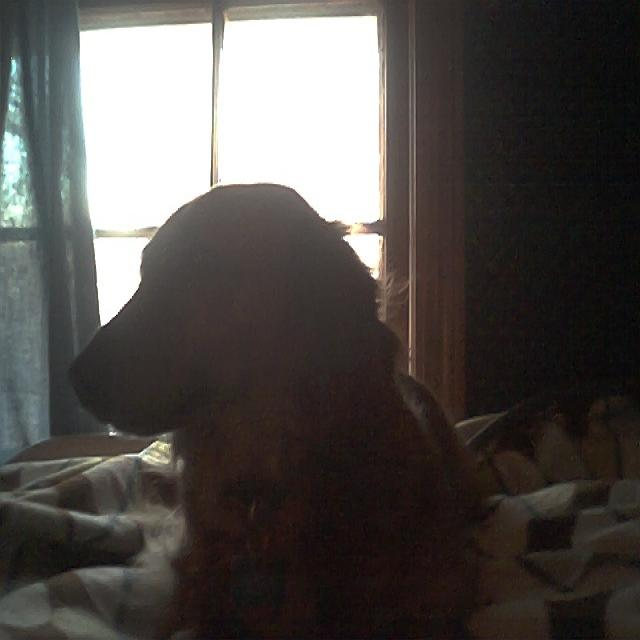Dog: (91, 151, 523, 584)
